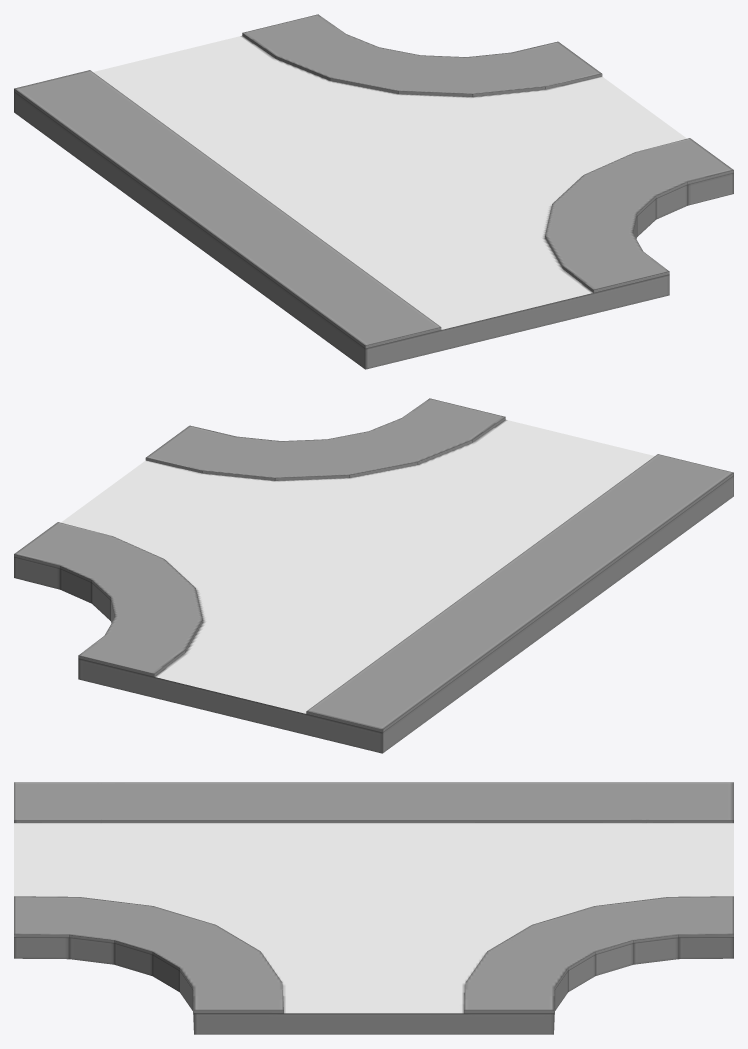
File: Road-07.fbx
3 views of the same model, one above another, from view 1: azimuth 30°, elevation 25°; view 2: azimuth 150°, elevation 25°; view 3: azimuth 270°, elevation 25° (orthographic). The views are drawn at different scales.
Parts seen in each view (by area): view 1: Road_07; view 2: Road_07; view 3: Road_07.
Boxes of the visible parts, bbox=[...] form: Road_07: bbox=[14, 14, 733, 369]; Road_07: bbox=[14, 398, 733, 753]; Road_07: bbox=[14, 782, 733, 1034].
Size of the model in its own units: 6 by 0.3 by 8.
